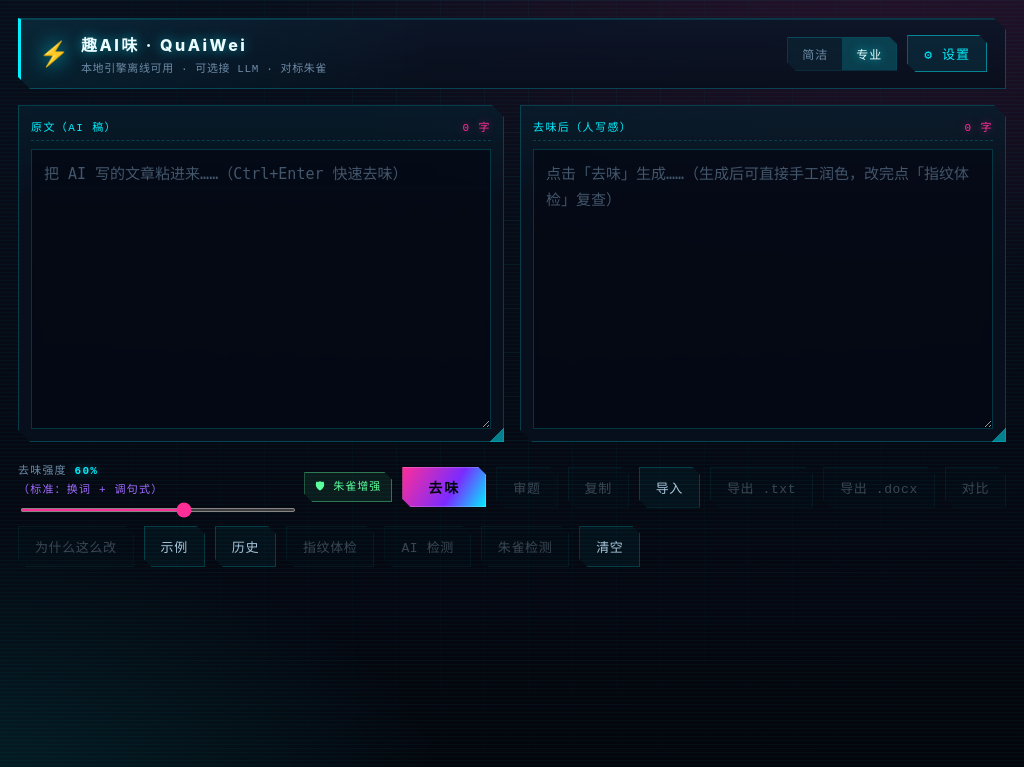
App 冒烟（默认空配置） › 点「示例」→「指纹体检」渲染体检面板（ppl unsupported 也不崩）
The width and height of the screenshot is (1024, 767).
Click the button "示例" at point(174, 546), box [144,526,205,567]
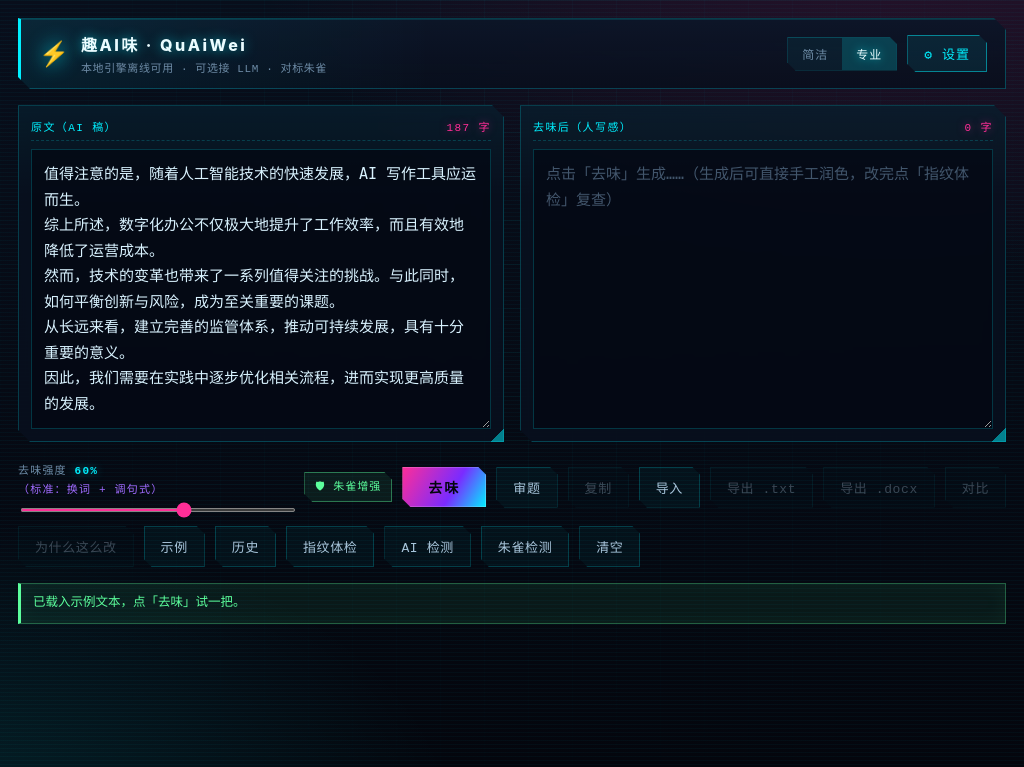
Click the button "指纹体检" at point(330, 546), box [286,526,374,567]
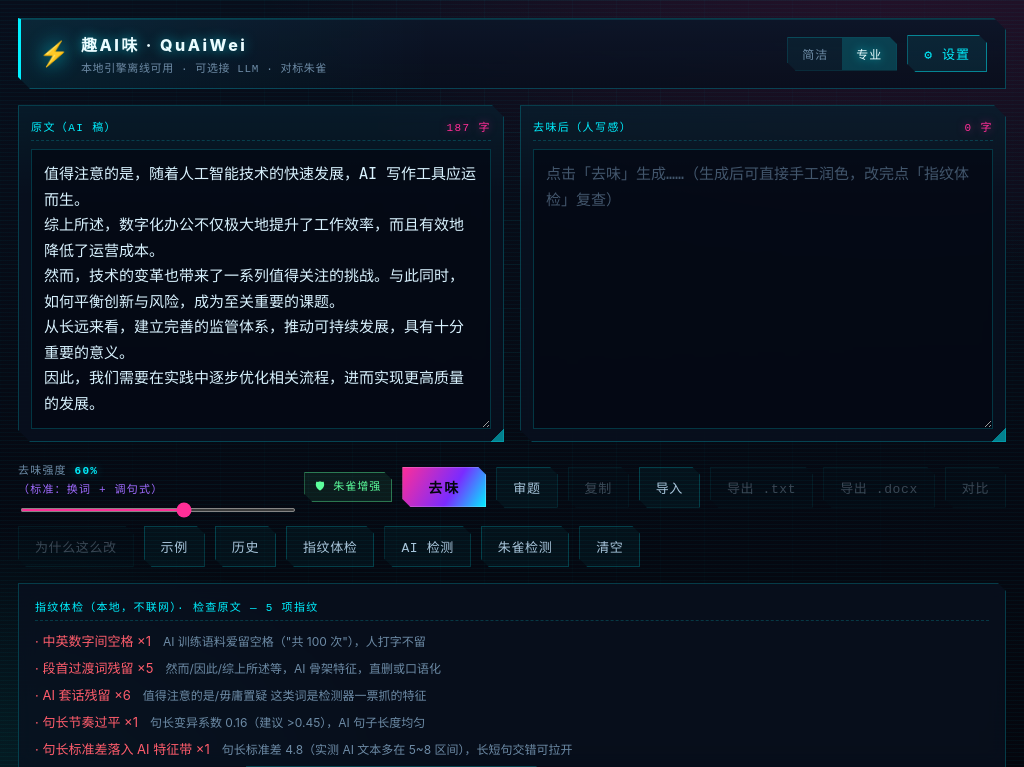
Result: the text "检查原文" is shown at [193,602,242,614]
